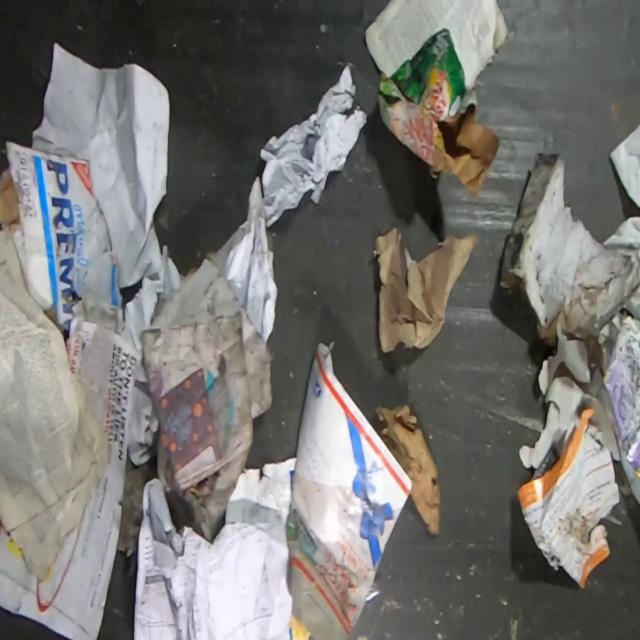cardboard: (284, 339, 414, 640), (0, 140, 122, 336), (378, 24, 500, 202), (374, 401, 441, 535)
soft_plastic: (602, 315, 640, 506)
